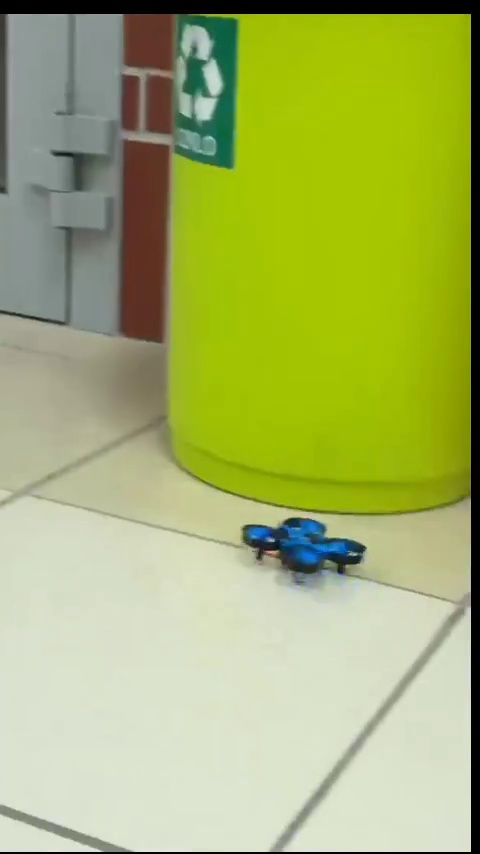drone: (235, 516, 366, 580)
